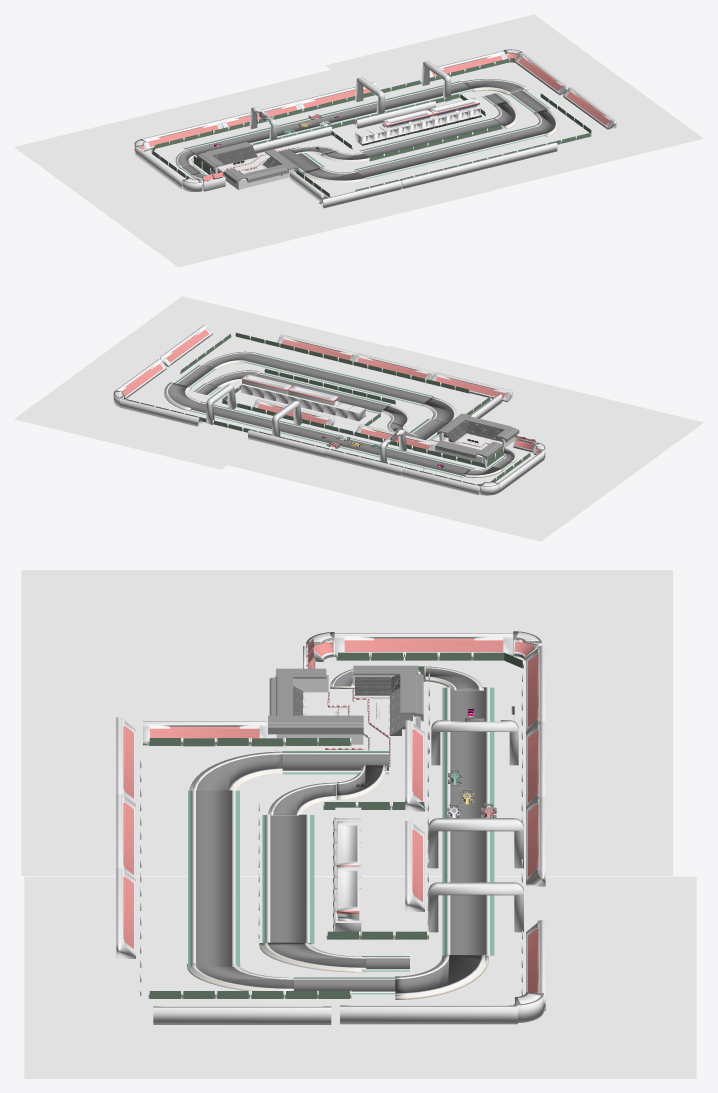
The model's file is foro_sol.glb.
The picture shows the model from 3 angles, top to bottom: view 1: azimuth 30°, elevation 25°; view 2: azimuth 150°, elevation 25°; view 3: azimuth 270°, elevation 25°; orthographic projection. The views are drawn at different scales.
Parts seen in each view (by area): view 1: Paredes_foro.009, Paredes_foro, grandStand.012, grandStand.011, grandStand.003, grandStand.008, grandStand.009, grandStand.006, grandStand.001, grandStand.007, grandStand.002, grandStand.004 (+7 smaller); view 2: Paredes_foro.009, Paredes_foro, grandStand.011, grandStand.002, grandStand.001, grandStand.012, grandStand.004, grandStand.005, grandStand.009, grandStand.008, grandStand.003, grandStand.006 (+7 smaller); view 3: Paredes_foro.009, Paredes_foro, grandStand, grandStand.003, grandStand.012, grandStand.010, overhead.001, overhead, grandStand.008, grandStand.007, grandStand.006, grandStand.005 (+8 smaller).
Part boxes in pixels (x1=…): Paredes_foro.009: x1=14, y1=14, x2=703, y2=267; Paredes_foro: x1=197, y1=142, x2=298, y2=189; grandStand.012: x1=563, y1=87, x2=616, y2=129; grandStand.011: x1=319, y1=180, x2=401, y2=208; grandStand.003: x1=515, y1=53, x2=568, y2=95; grandStand.008: x1=478, y1=142, x2=557, y2=170; grandStand.009: x1=401, y1=161, x2=479, y2=188; grandStand.006: x1=252, y1=126, x2=331, y2=153; grandStand.001: x1=142, y1=120, x2=222, y2=150; grandStand.007: x1=353, y1=100, x2=435, y2=128; grandStand.002: x1=429, y1=51, x2=506, y2=77; grandStand.004: x1=220, y1=101, x2=301, y2=127; Paredes_foro.009: x1=14, y1=296, x2=703, y2=541; Paredes_foro: x1=435, y1=413, x2=519, y2=464; grandStand.011: x1=431, y1=372, x2=512, y2=402; grandStand.002: x1=120, y1=398, x2=202, y2=426; grandStand.001: x1=401, y1=467, x2=479, y2=495; grandStand.012: x1=160, y1=324, x2=212, y2=367; grandStand.004: x1=324, y1=448, x2=402, y2=476; grandStand.005: x1=248, y1=430, x2=325, y2=457; grandStand.009: x1=353, y1=353, x2=433, y2=380; grandStand.008: x1=277, y1=334, x2=357, y2=360; grandStand.003: x1=114, y1=359, x2=166, y2=398; grandStand.006: x1=356, y1=424, x2=436, y2=451; Paredes_foro.009: x1=21, y1=570, x2=696, y2=1078; Paredes_foro: x1=268, y1=665, x2=423, y2=744; grandStand: x1=335, y1=633, x2=512, y2=656; grandStand.003: x1=340, y1=1005, x2=517, y2=1024; grandStand.012: x1=153, y1=1006, x2=331, y2=1024; grandStand.010: x1=143, y1=721, x2=266, y2=745; overhead.001: x1=428, y1=882, x2=523, y2=932; overhead: x1=428, y1=818, x2=523, y2=868; grandStand.008: x1=116, y1=867, x2=135, y2=958; grandStand.007: x1=405, y1=821, x2=424, y2=911; grandStand.006: x1=405, y1=720, x2=424, y2=811; grandStand.005: x1=526, y1=796, x2=545, y2=886.
Bounding box in the file's own units: 10948 × 505 × 6146.
96 materials, 7 textured.
